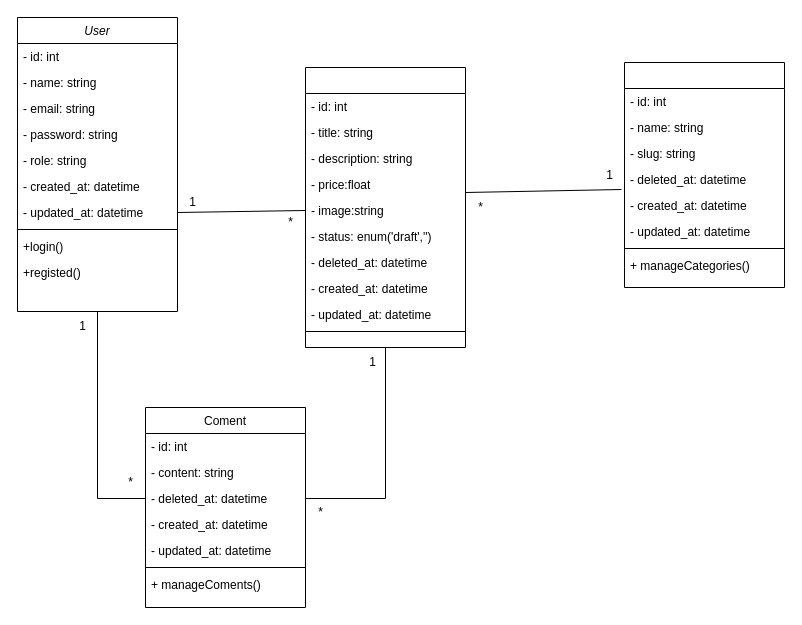
This 802x625 diagram has some shape labels left out. The box of each missing label's shape, as (x1, y1, x2, y2) in pixels:
Annonce: (304, 66, 466, 348)
Comment: (624, 62, 784, 288)
